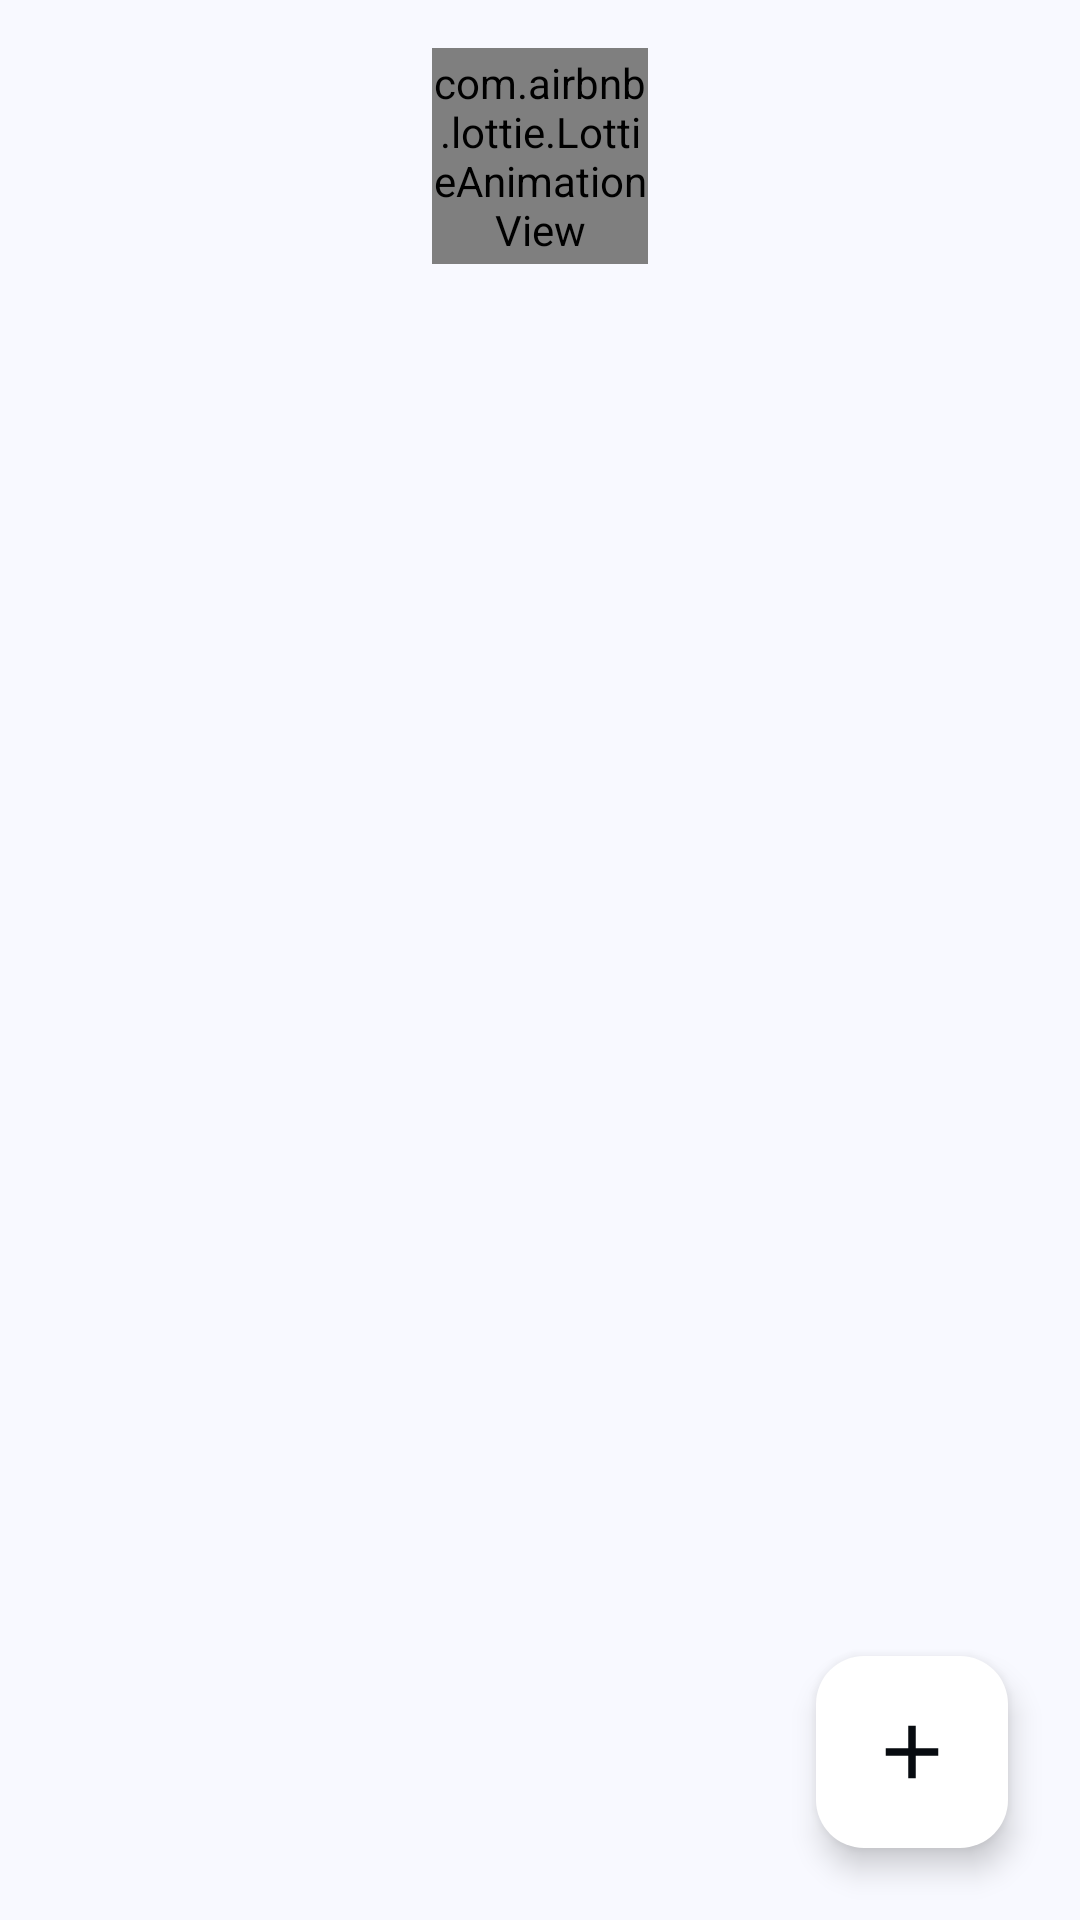

Screen size 1080×1920. Icon name, then its box in pixels as box=[x1, y1, x2, y2]:
Scan New QR: box=[816, 1656, 1008, 1848]
